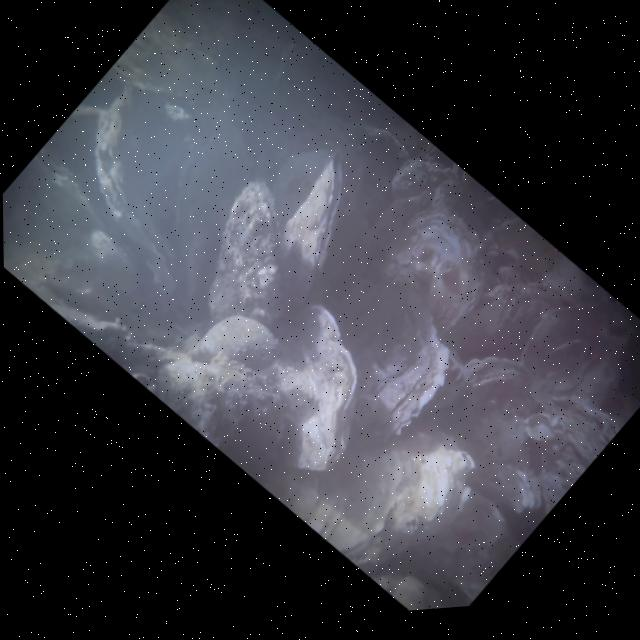Oyster-Closed: (84, 84, 179, 299), (344, 282, 454, 449), (164, 122, 249, 313), (271, 303, 363, 473), (277, 151, 351, 321), (207, 177, 284, 327), (466, 354, 532, 399)
Oyster-Indeterminate: (287, 426, 473, 571), (373, 213, 491, 332)
